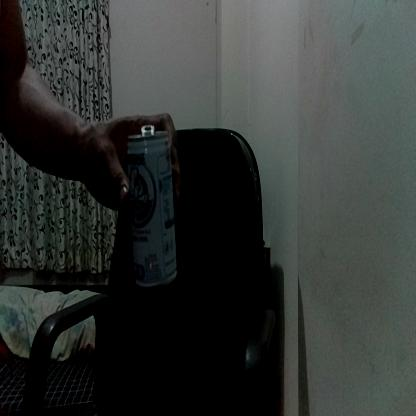alumunium_can: (126, 120, 178, 292)
